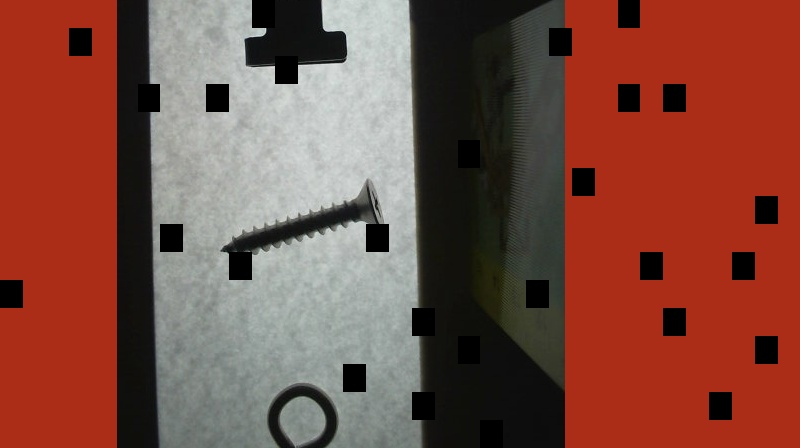O001: (261, 374, 341, 447)
O002: (235, 0, 348, 69)
S001: (217, 175, 389, 260)
